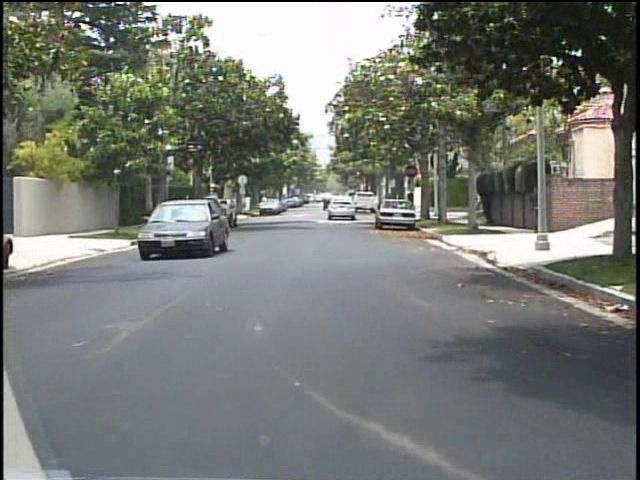person: (526, 181, 545, 238), (169, 193, 185, 231)
